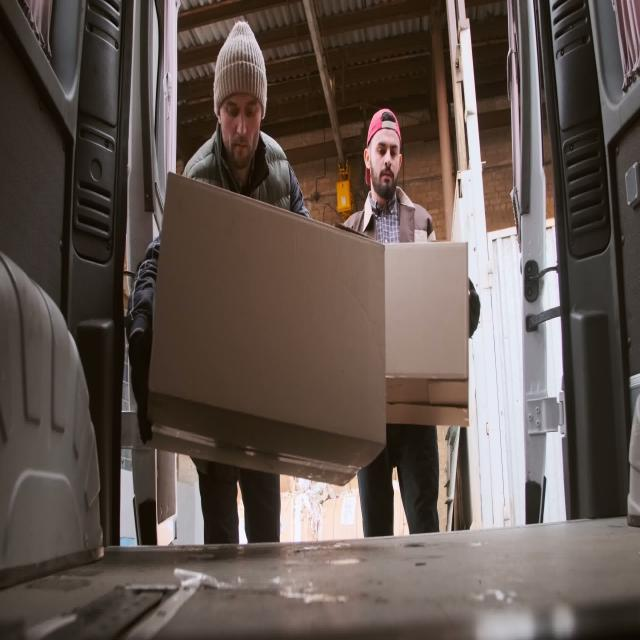counting-the-number-of-boxes: (145, 171, 386, 487), (384, 242, 469, 427)
